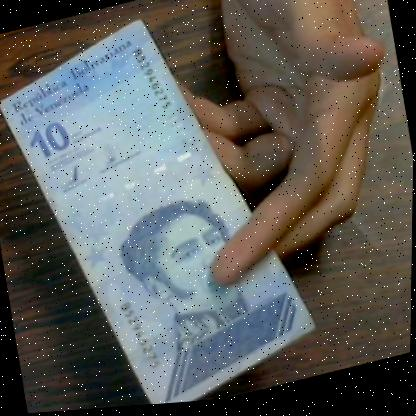ten-front-vef: (0, 0, 331, 416)
